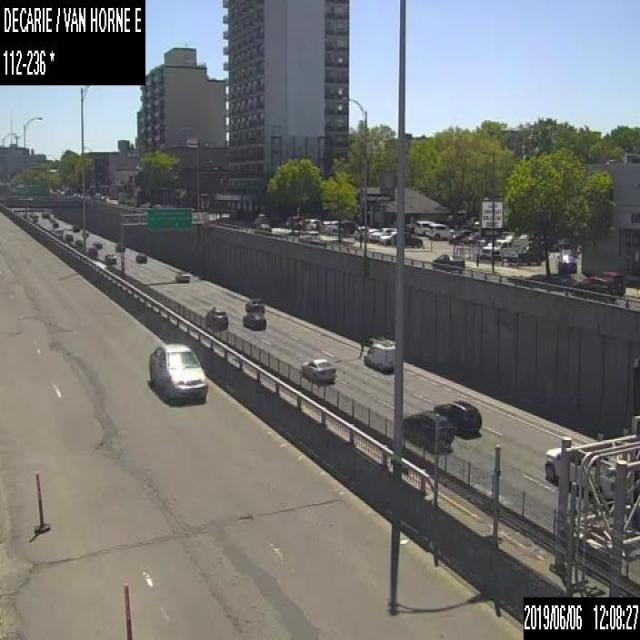construction: (34, 469, 50, 534), (122, 578, 133, 638)
vehicle: (542, 444, 626, 503), (148, 340, 208, 405), (400, 409, 453, 452), (432, 399, 480, 437), (571, 274, 614, 301), (361, 337, 394, 372), (300, 358, 336, 383), (505, 240, 539, 263), (481, 234, 512, 258), (598, 269, 624, 295), (431, 252, 464, 272), (202, 305, 226, 328), (390, 231, 422, 247), (242, 310, 266, 330), (556, 249, 576, 272), (428, 223, 451, 239), (244, 296, 264, 312), (452, 228, 472, 244), (414, 220, 436, 234), (296, 229, 319, 242), (379, 227, 396, 243), (173, 268, 189, 282), (354, 225, 368, 238), (253, 221, 271, 231), (368, 230, 384, 241), (305, 218, 320, 229), (364, 228, 377, 240), (102, 253, 116, 264), (326, 220, 338, 231), (134, 252, 146, 263), (85, 245, 96, 255), (114, 240, 124, 250), (65, 232, 71, 241), (92, 241, 101, 247), (72, 223, 79, 230), (82, 229, 88, 235), (52, 221, 58, 226)
